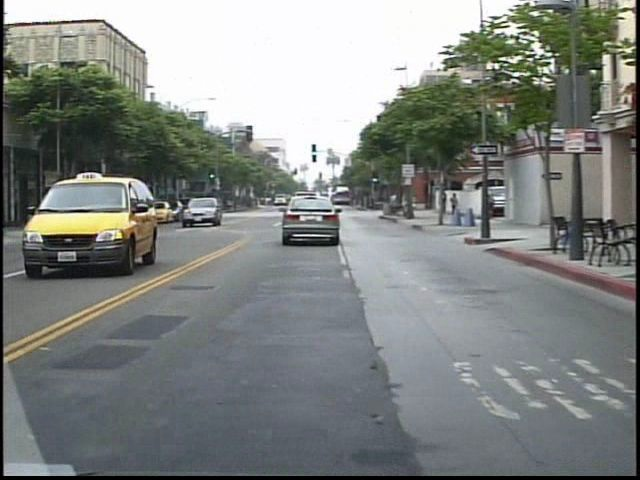person: (423, 182, 439, 223), (377, 188, 394, 218), (440, 186, 454, 221)
